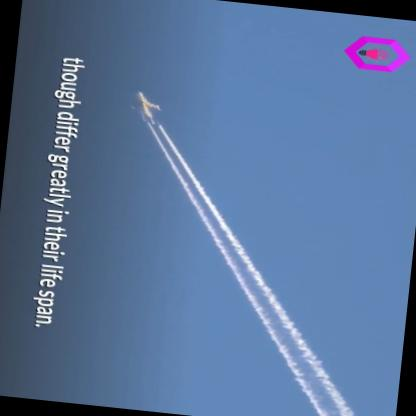plane: (125, 87, 167, 125)
